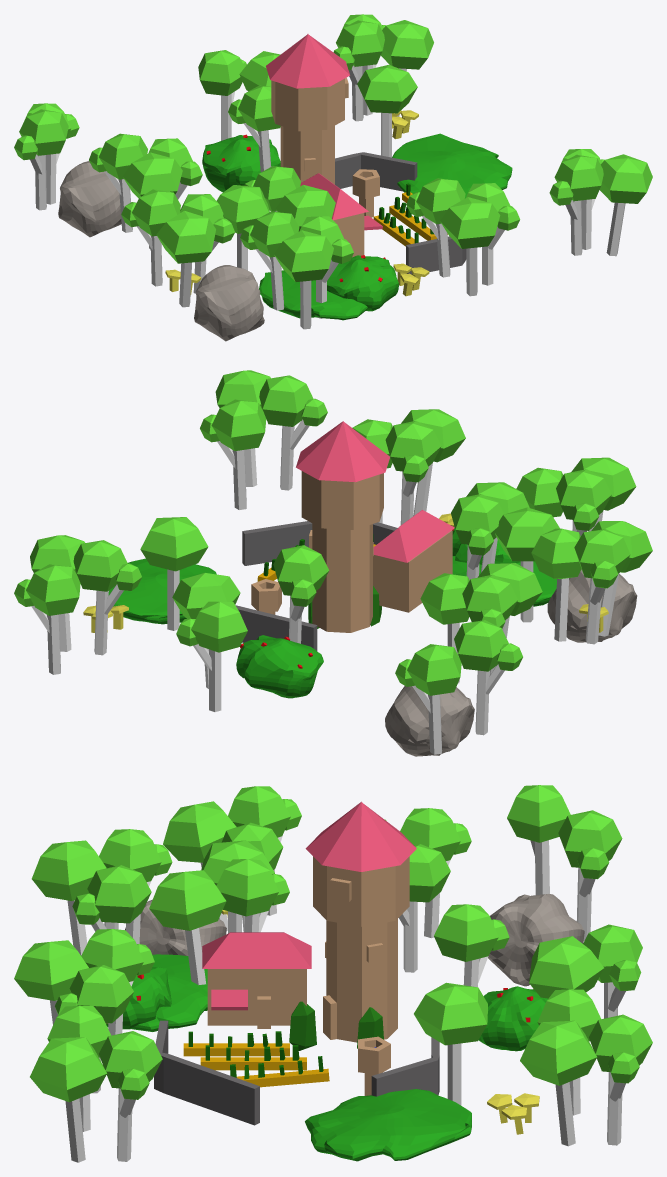
Rendered from forest_birch_tower.glb.
3 renders of one model, top to bottom at view 1: azimuth 30°, elevation 25°; view 2: azimuth 150°, elevation 25°; view 3: azimuth 270°, elevation 25°, orthographic. The views are drawn at different scales.
Visible parts, largest first — view 1: bush.019, rock2.005, rock2.004, Tower2, Tower3, bush.015, bush.016, Tower1, Sphere.102, Sphere.107, Sphere.092, bush.018 (+40 smaller); view 2: Tower1, bush.016, rock2.004, Tower2, Tower3, Cube.041, Sphere.127, bush.019, rock2.005, Cube.062, Cube.042, Sphere.129 (+47 smaller); view 3: bush.019, Tower1, Tower2, Tower3, Cube.062, rock2.004, Cube.041, Cube.042, Sphere.087, Sphere.082, Sphere.127, Sphere.117 (+51 smaller).
Part boxes in pixels (x1=…): bush.019: x1=392, y1=133, x2=512, y2=198; rock2.005: x1=194, y1=265, x2=264, y2=341; rock2.004: x1=58, y1=161, x2=121, y2=237; Tower2: x1=271, y1=78, x2=344, y2=131; Tower3: x1=266, y1=34, x2=349, y2=88; bush.015: x1=327, y1=255, x2=398, y2=311; bush.016: x1=202, y1=135, x2=280, y2=192; Tower1: x1=280, y1=125, x2=334, y2=184; Sphere.102: x1=156, y1=211, x2=215, y2=263; Sphere.107: x1=440, y1=197, x2=500, y2=248; Sphere.092: x1=274, y1=230, x2=333, y2=281; bush.018: x1=259, y1=270, x2=388, y2=320; Tower1: x1=312, y1=523, x2=372, y2=632; bush.016: x1=236, y1=635, x2=323, y2=698; rock2.004: x1=385, y1=686, x2=474, y2=756; Tower2: x1=301, y1=471, x2=383, y2=529; Tower3: x1=296, y1=421, x2=389, y2=482; Cube.041: x1=373, y1=530, x2=452, y2=612; Sphere.127: x1=140, y1=517, x2=208, y2=571; bush.019: x1=108, y1=558, x2=216, y2=624; rock2.005: x1=547, y1=569, x2=637, y2=642; Cube.062: x1=242, y1=521, x2=397, y2=565; Cube.042: x1=373, y1=510, x2=454, y2=562; Sphere.129: x1=495, y1=507, x2=559, y2=561; bush.019: x1=305, y1=1089, x2=471, y2=1161; Tower1: x1=326, y1=919, x2=397, y2=1042; Tower2: x1=313, y1=856, x2=409, y2=926; Tower3: x1=305, y1=801, x2=416, y2=871; Cube.062: x1=154, y1=1020, x2=259, y2=1125; rock2.004: x1=488, y1=894, x2=584, y2=986; Cube.041: x1=207, y1=969, x2=306, y2=1025; Cube.042: x1=202, y1=932, x2=311, y2=968; Sphere.087: x1=520, y1=1020, x2=597, y2=1085; Sphere.082: x1=30, y1=1037, x2=106, y2=1102; Sphere.127: x1=414, y1=982, x2=487, y2=1045; Sphere.117: x1=149, y1=870, x2=226, y2=930.
Bounding box in the file's own units: 9.39 × 4.17 × 9.01.
